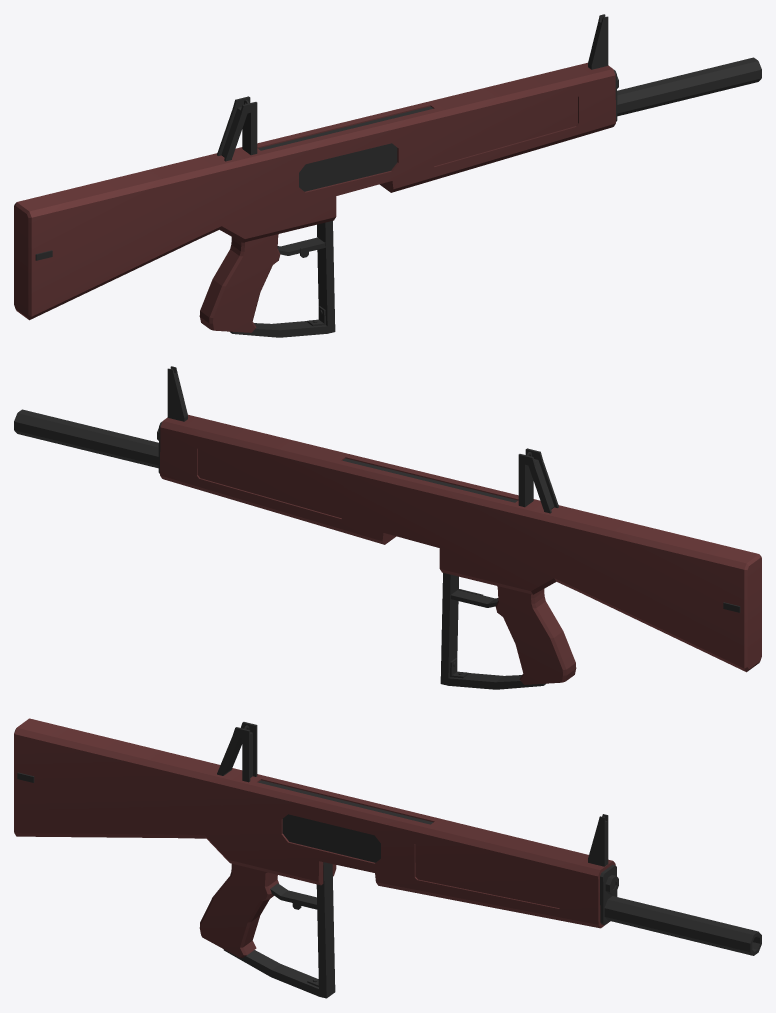
Rendered from Shotgun1_06.fbx.
3 renders of one model, top to bottom at view 1: azimuth 30°, elevation 25°; view 2: azimuth 150°, elevation 25°; view 3: azimuth 330°, elevation 25°, orthographic.
Parts seen in each view (by area): view 1: Shotgun1_06; view 2: Shotgun1_06; view 3: Shotgun1_06.
Boxes of the visible parts, x1,y1,x2,y2 form: Shotgun1_06: [14, 14, 761, 337]; Shotgun1_06: [14, 366, 761, 689]; Shotgun1_06: [14, 718, 761, 998].
Bounding box in the file's own units: 0.9412 × 0.3044 × 0.0423.
